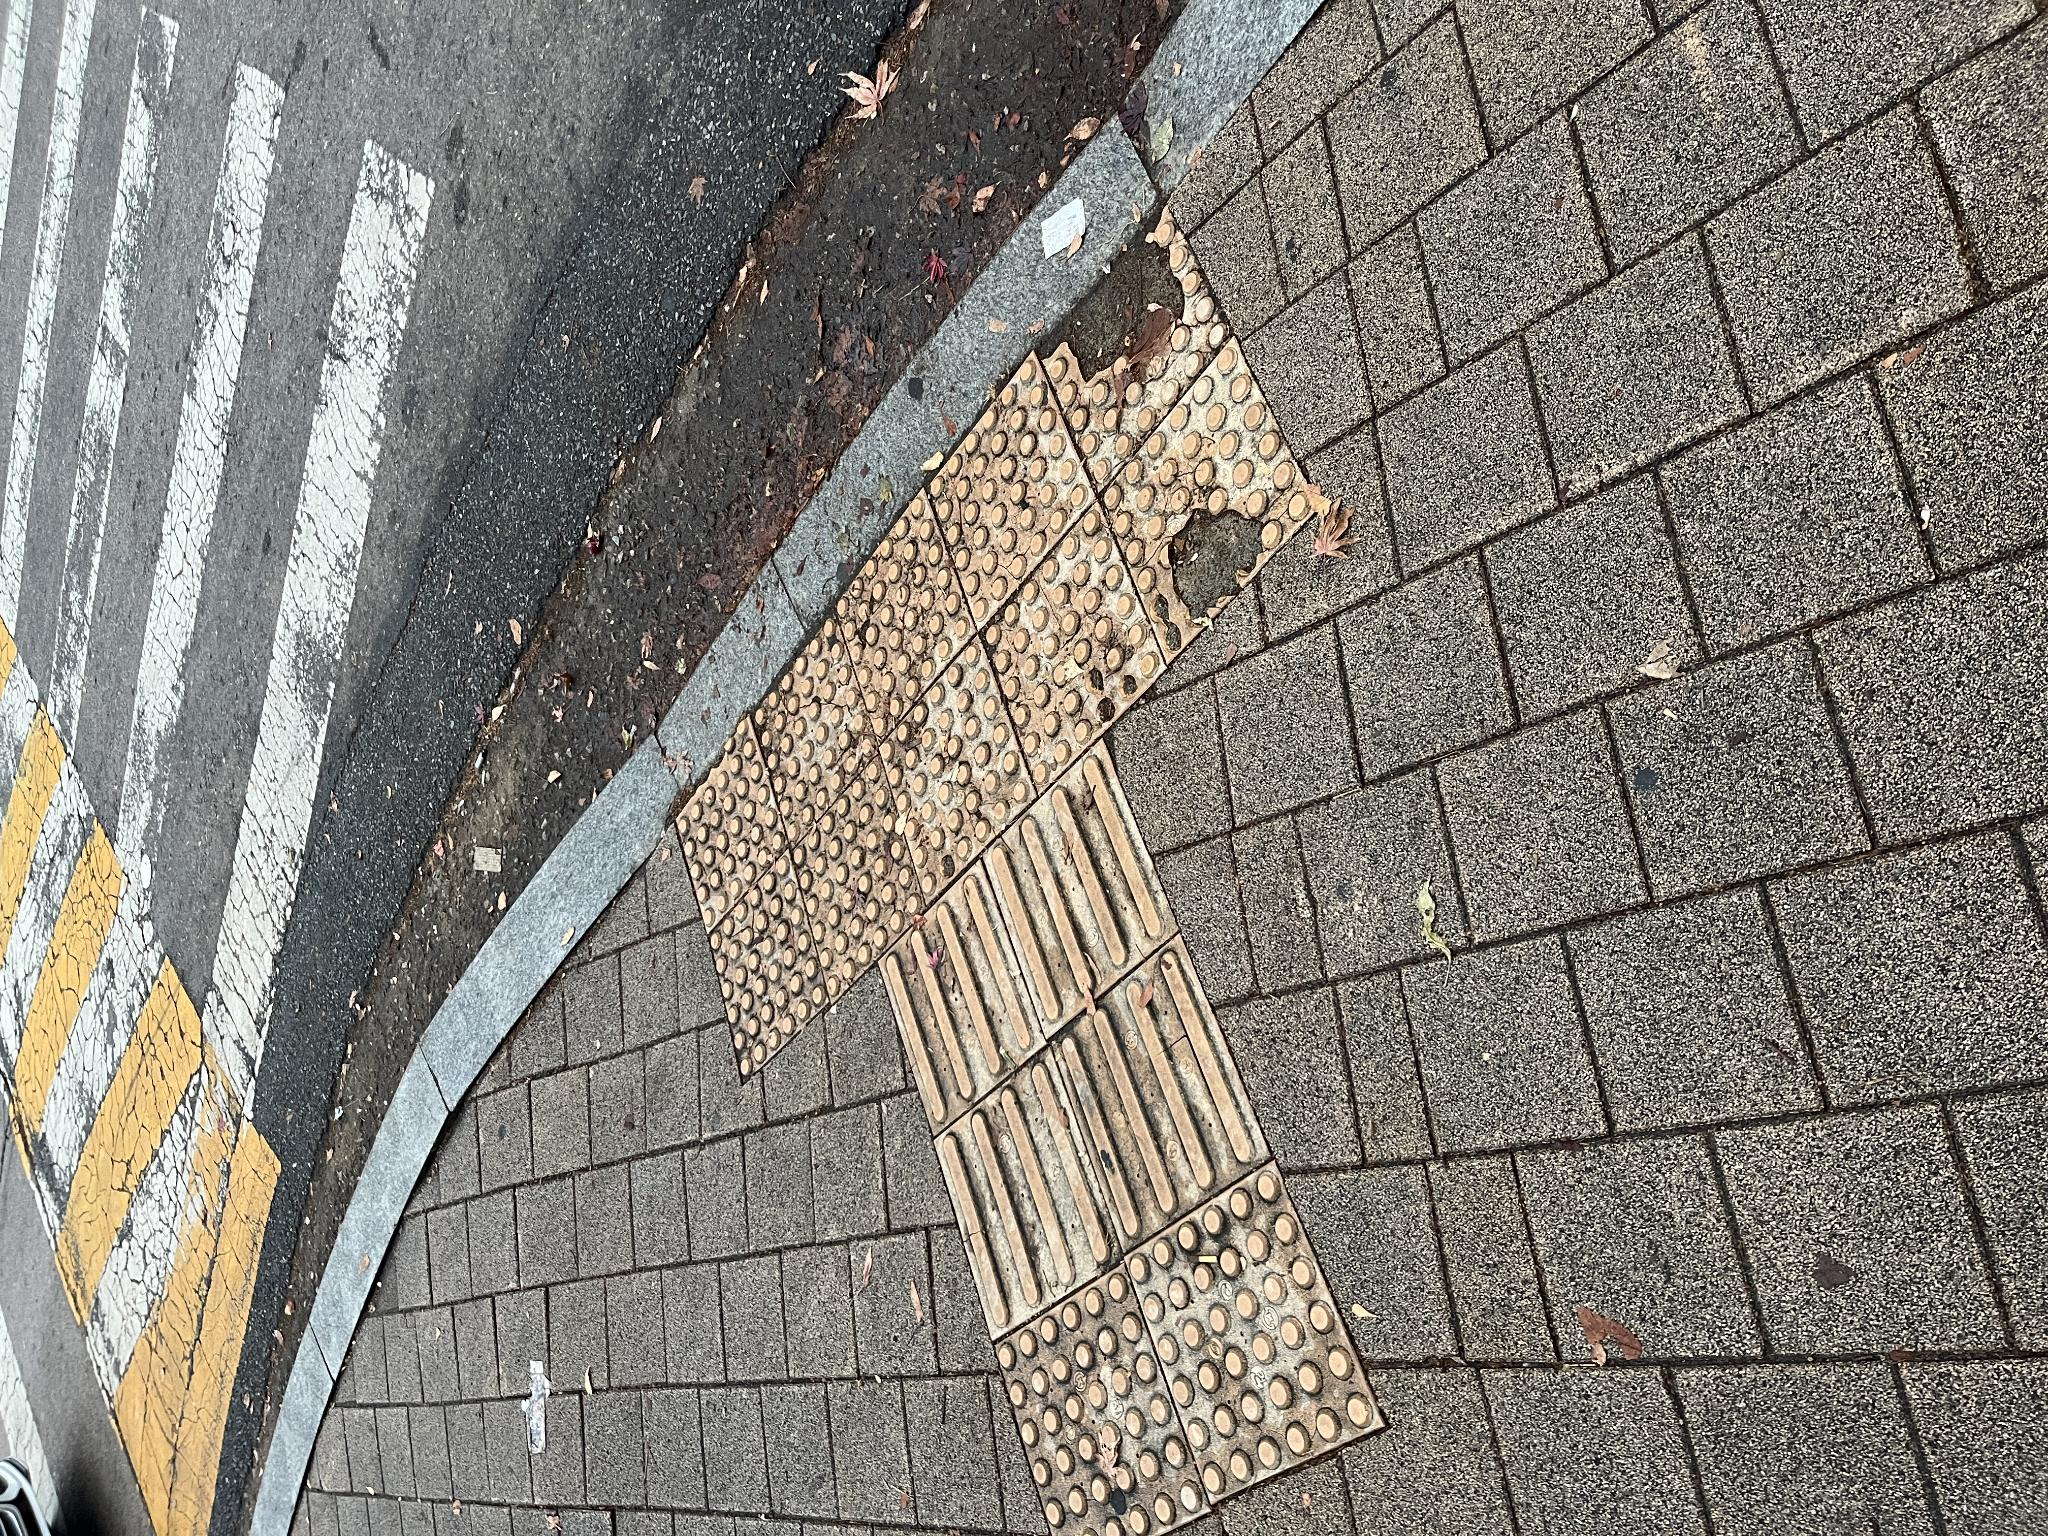Stop block broken: (872, 1102, 1198, 1315), (1043, 1037, 1334, 1231)
Stop block normal: (35, 1126, 374, 1381), (747, 981, 1029, 1162), (906, 928, 1182, 1092), (634, 878, 900, 1033), (793, 834, 1042, 973)
Straight block normal: (285, 1052, 598, 1270), (500, 984, 793, 1175), (198, 936, 487, 1118), (402, 878, 672, 1042)
